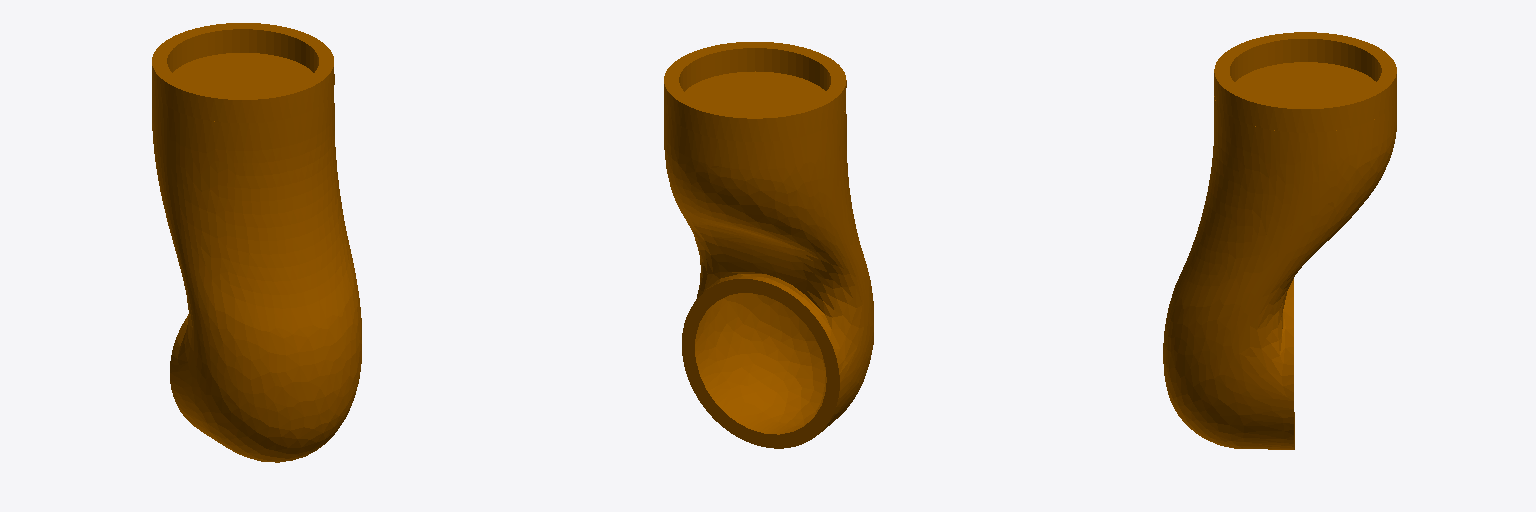
The picture shows the model from 3 angles: view 1: azimuth 30°, elevation 25°; view 2: azimuth 150°, elevation 25°; view 3: azimuth 270°, elevation 25°; orthographic projection.
Visible parts, largest first — view 1: /ambf/env/link4_link4.001; view 2: /ambf/env/link4_link4.001; view 3: /ambf/env/link4_link4.001.
Part boxes in pixels (x1,y1,x2,y2): /ambf/env/link4_link4.001: (152,23,361,462); /ambf/env/link4_link4.001: (664,42,873,448); /ambf/env/link4_link4.001: (1163,32,1396,449).
Size of the model in its own units: 0.12 by 0.2686 by 0.1537.